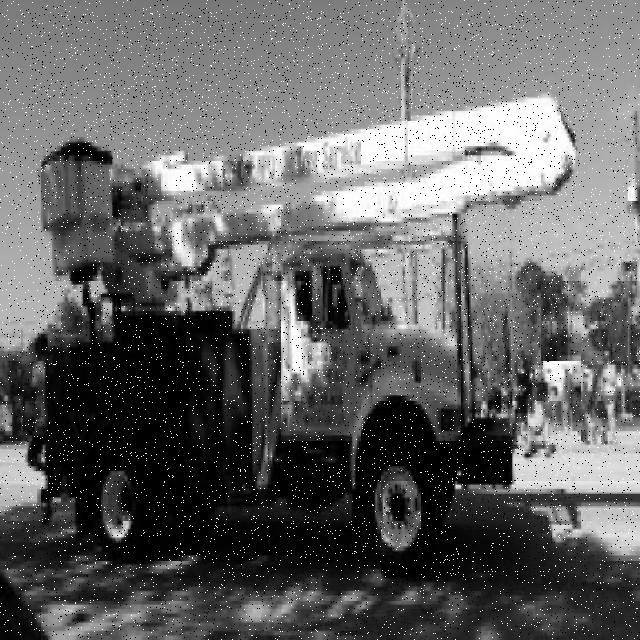Truck- 2-Axle: (32, 12, 577, 577)
